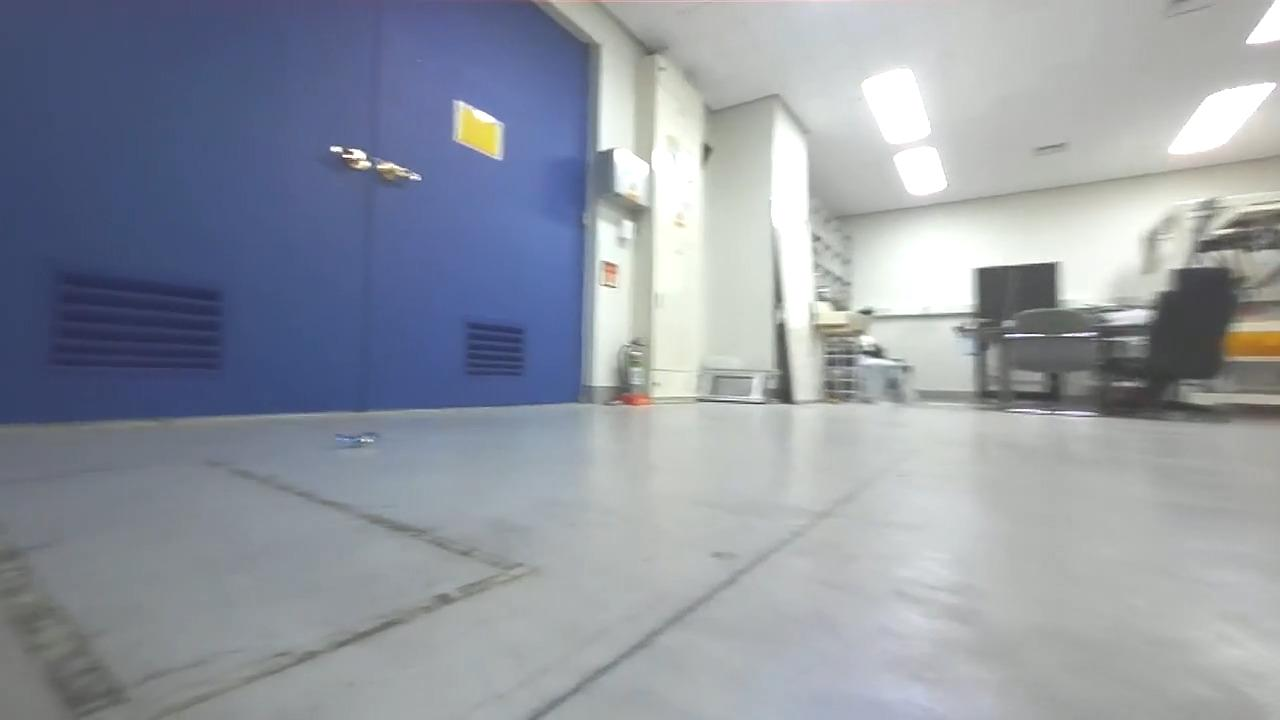crazyflie: (323, 425, 399, 456)
